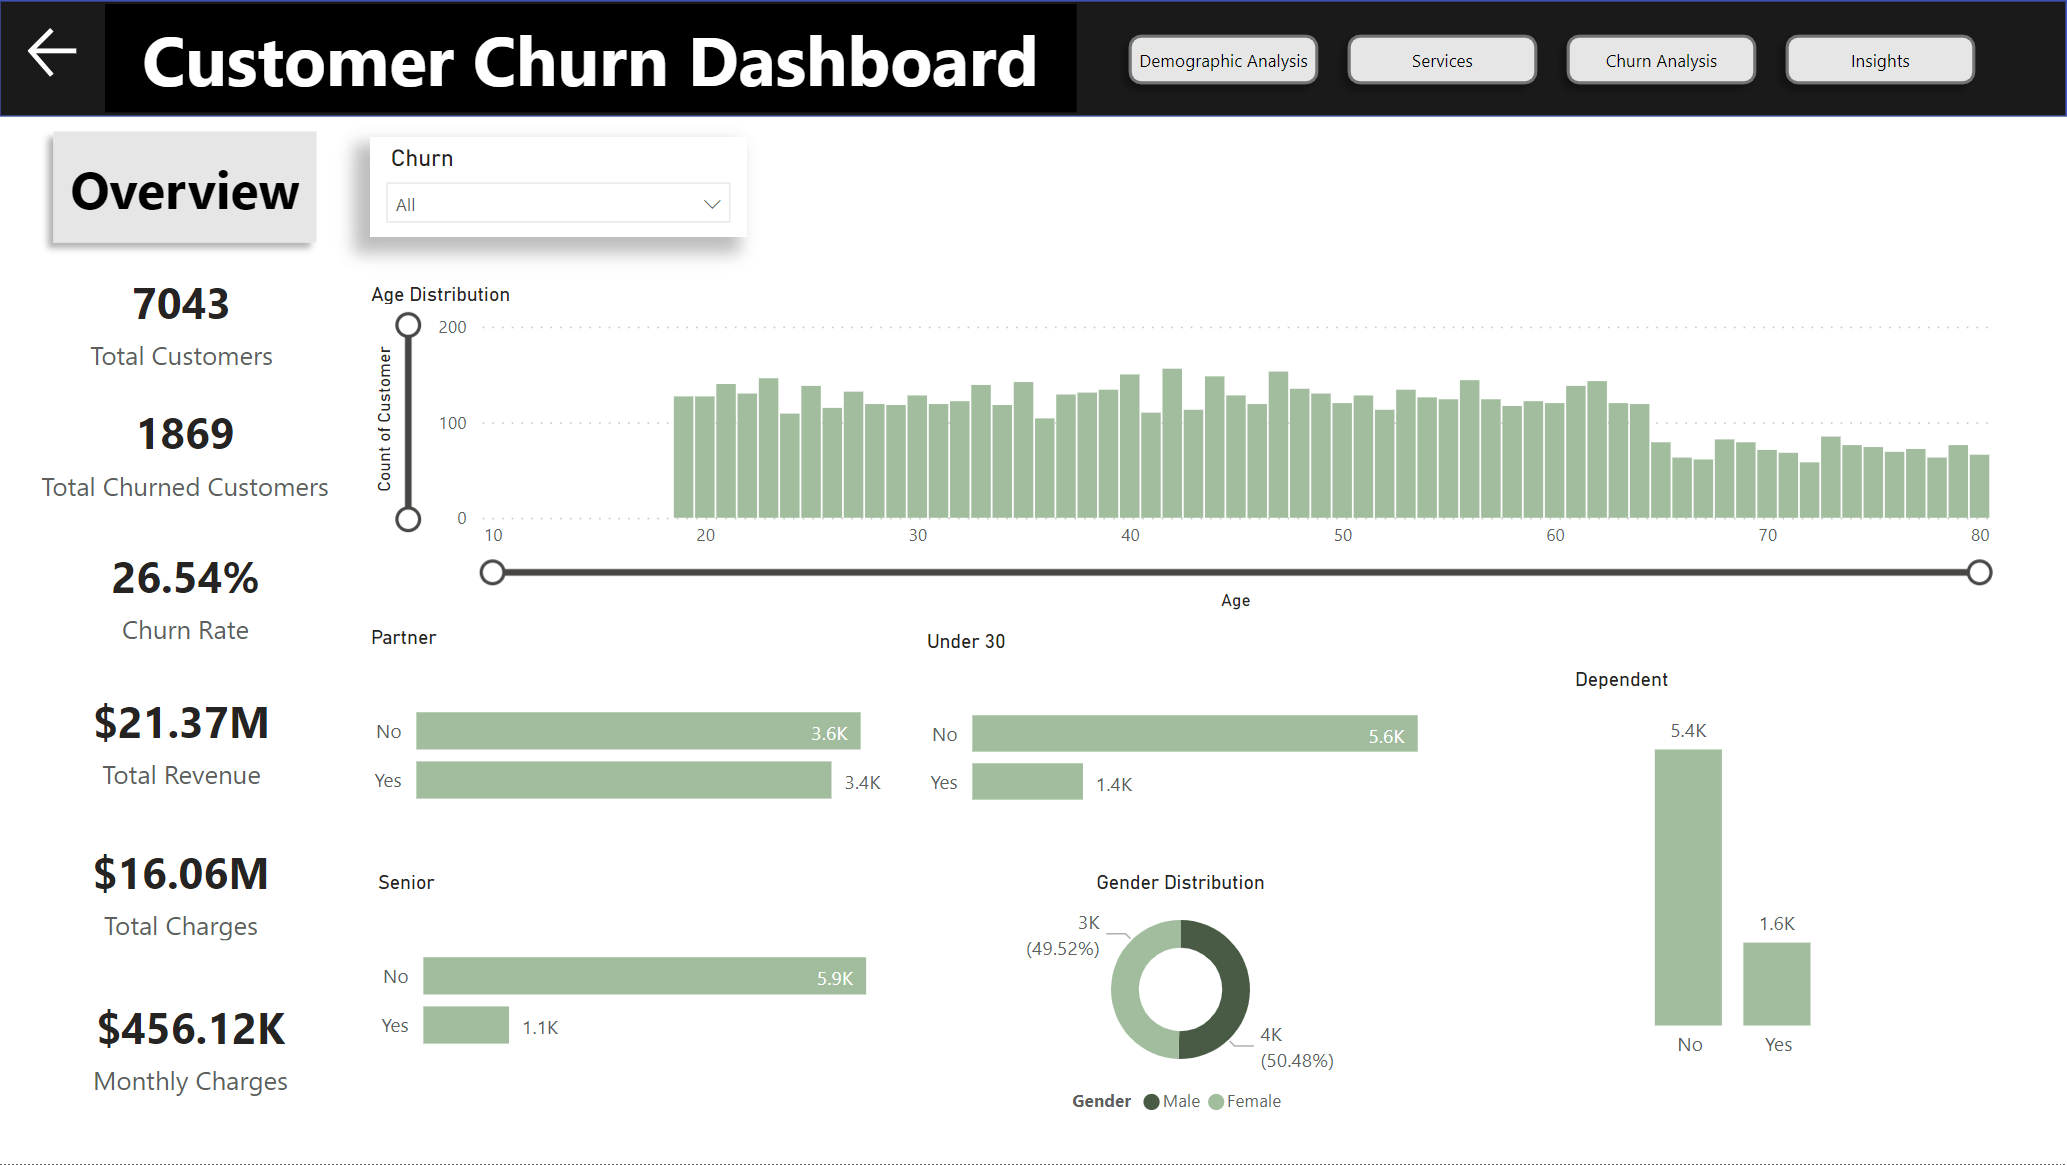

This screenshot's page, from the dashboard's own definition file:
{"tool":"powerbi","page":{"name":"Overview","canvas":[1280,720],"ordinal":1},"visuals":[{"type":"shape","box":[0,0,1279.8,72.4],"z":0,"group":"g2"},{"type":"shape","box":[689.7,12.4,135.5,48.9],"z":0,"group":"g1"},{"type":"clusteredBarChart","title":"Senior","fields":{"Category":["Demographic.Senior Citizen"],"Y":["All Mesures.Total Customers"]},"box":[229.5,538.8,332.2,140.4],"z":0},{"type":"actionButton","box":[13.6,12.4,52,40.2],"z":1000,"group":"g2"},{"type":"shape","box":[960.6,12.4,135.5,48.9],"z":1000,"group":"g1"},{"type":"clusteredColumnChart","title":"Age Distribution","fields":{"Category":["Demographic.Age"],"Y":["All Mesures.Total Customers"]},"box":[225.2,175.1,1012,207.2],"z":1000},{"type":"textbox","box":[65.6,2.5,600.6,67.4],"z":2000,"group":"g2"},{"type":"shape","box":[825.2,12.4,135.5,48.9],"z":2000,"group":"g1"},{"type":"donutChart","title":"Gender Distribution","fields":{"Category":["Demographic.Gender"],"Y":["All Mesures.Total Customers"]},"box":[599.4,538.8,262.9,160.2],"z":2000},{"type":"group","id":"g1","title":"Group 3","box":[689.7,12.4,541.9,48.9],"z":3000,"group":"g2"},{"type":"shape","box":[1096.1,12.4,135.5,48.9],"z":3000,"group":"g1"},{"type":"clusteredBarChart","title":"Partner","fields":{"Category":["Demographic.Married"],"Y":["All Mesures.Total Customers"]},"box":[225.2,387.2,334.6,140.4],"z":3000},{"type":"clusteredBarChart","title":"Under 30","fields":{"Category":["Demographic.Under 30"],"Y":["All Mesures.Total Customers"]},"box":[569.1,389.7,334.6,137.9],"z":4000},{"type":"clusteredColumnChart","title":"Dependent","fields":{"Category":["Demographic.Dependents"],"Y":["All Mesures.Total Customers"]},"box":[969.9,413.2,207.2,251.1],"z":5000},{"type":"card","fields":{"Values":["All Mesures.Total Customers"]},"box":[45.8,164.5,134.2,67.4],"z":6000},{"type":"card","fields":{"Values":["All Mesures.Total Churned Customers"]},"box":[14.2,243.7,201.6,70.5],"z":7000},{"type":"card","fields":{"Values":["All Mesures.Churn Rate"]},"box":[39.6,334.6,151.5,66.2],"z":8000},{"type":"card","fields":{"Values":["All Mesures.Total Revenue"]},"box":[37.1,423.1,151.5,68.7],"z":9000},{"type":"card","fields":{"Values":["All Mesures.Total Charges"]},"box":[36.5,514.6,152.2,72.4],"z":10000},{"type":"card","fields":{"Values":["All Mesures.Monthly Revenue"]},"box":[37.1,609.3,162.7,74.8],"z":11000},{"type":"shape","title":"Overview","box":[24.7,72.4,180.6,86.6],"z":12000},{"type":"slicer","title":"vsv","fields":{"Values":["Telco_Churn.Churn Label"]},"box":[229.5,84.7,233.2,61.9],"z":13000},{"type":"group","id":"g2","title":"Group 4","box":[0,0,1279.8,72.4],"z":14000}]}

Visuals, with their boxes in screenshot pixels (x1, y1, x2, y2), scaled from the page's 1280x720 canvas onto the 2067x1165 screenshot:
shape: 0/0/2066/117
shape: 1114/20/1333/99
"Senior" clusteredBarChart: 371/872/907/1099
actionButton: 22/20/106/85
shape: 1551/20/1770/99
"Age Distribution" clusteredColumnChart: 364/283/1998/619
textbox: 106/4/1076/113
shape: 1333/20/1551/99
"Gender Distribution" donutChart: 968/872/1392/1131
"Group 3" group: 1114/20/1989/99
shape: 1770/20/1989/99
"Partner" clusteredBarChart: 364/627/904/854
"Under 30" clusteredBarChart: 919/631/1459/854
"Dependent" clusteredColumnChart: 1566/669/1901/1075
card - All Mesures.Total Customers: 74/266/291/375
card - All Mesures.Total Churned Customers: 23/394/348/508
card - All Mesures.Churn Rate: 64/541/309/649
card - All Mesures.Total Revenue: 60/685/305/796
card - All Mesures.Total Charges: 59/833/305/950
card - All Mesures.Monthly Revenue: 60/986/323/1107
"Overview" shape: 40/117/332/257
"vsv" slicer: 371/137/747/237
"Group 4" group: 0/0/2066/117
